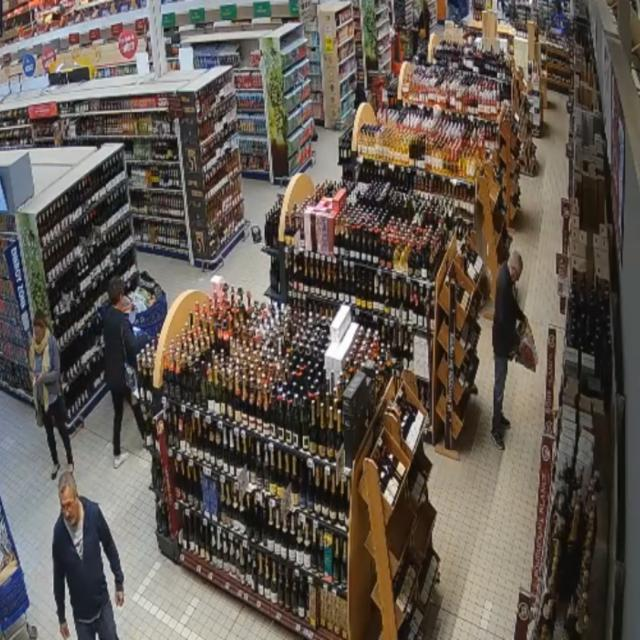bags: (122, 328, 138, 398), (515, 322, 537, 371), (35, 402, 44, 427)
hands: (60, 623, 70, 639), (116, 591, 124, 607), (35, 374, 42, 385), (31, 374, 37, 386), (523, 315, 528, 325)
person: (53, 472, 124, 639), (29, 311, 73, 479), (104, 278, 142, 468), (492, 252, 525, 450)
